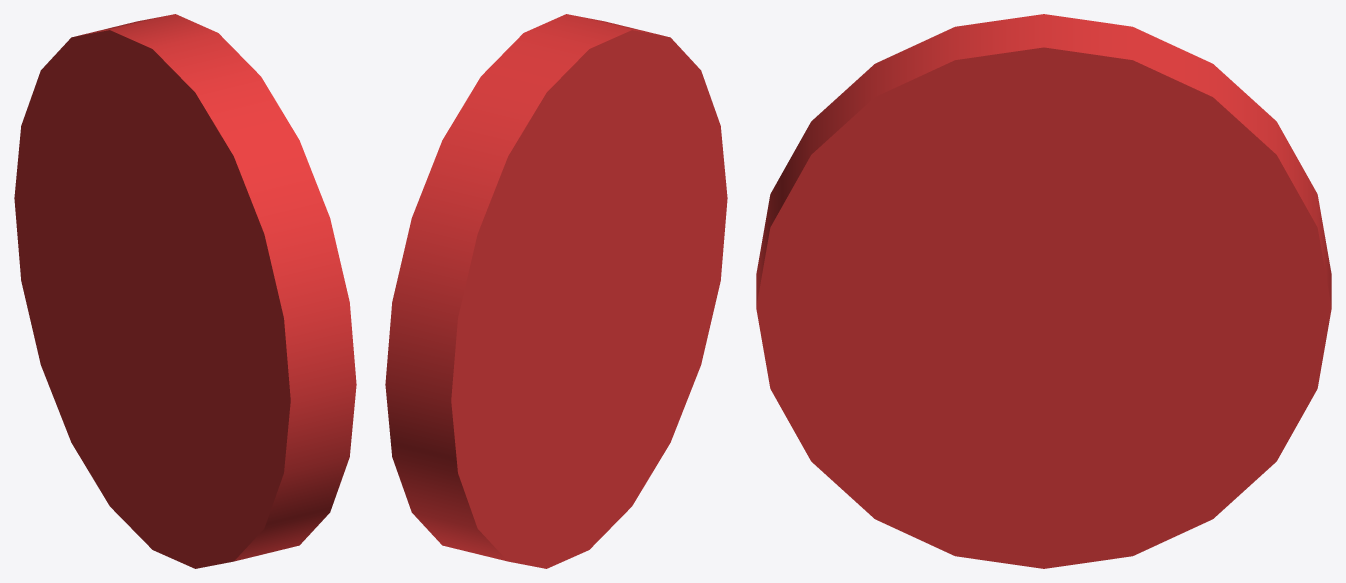
File: Scheibe.fbx
The picture shows the model from 3 angles, left to right: view 1: azimuth 30°, elevation 25°; view 2: azimuth 150°, elevation 25°; view 3: azimuth 270°, elevation 25°; orthographic projection. The views are drawn at different scales.
Parts seen in each view (by area): view 1: pCylinder1; view 2: pCylinder1; view 3: pCylinder1.
Boxes of the visible parts, bbox=[...] form: pCylinder1: bbox=[14, 14, 356, 568]; pCylinder1: bbox=[385, 14, 727, 568]; pCylinder1: bbox=[756, 14, 1331, 568].
Size of the model in its own units: 0.2749 by 2 by 2.
